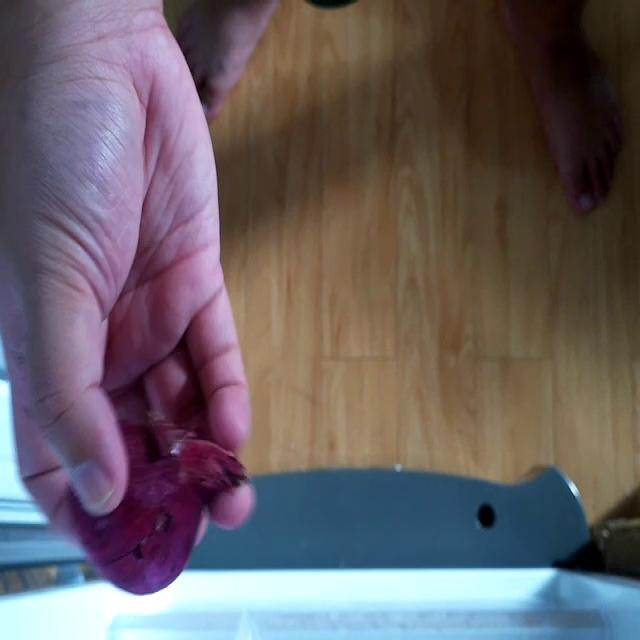onion: (72, 416, 241, 595)
